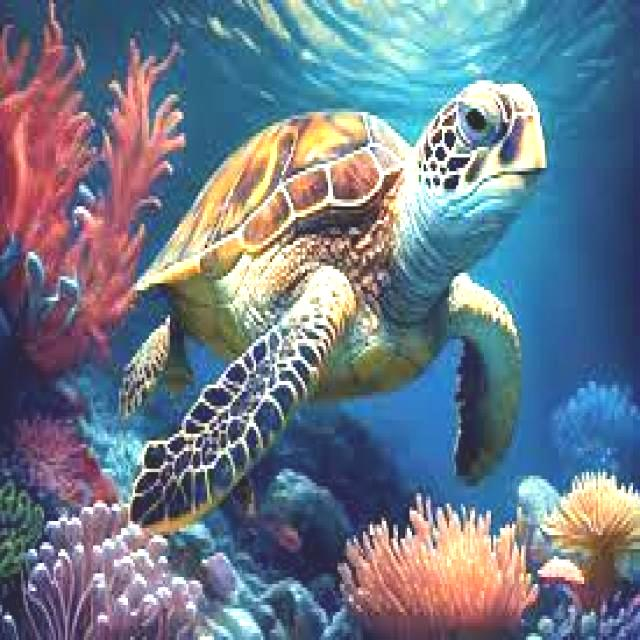Sea turtle: (130, 76, 551, 539)
